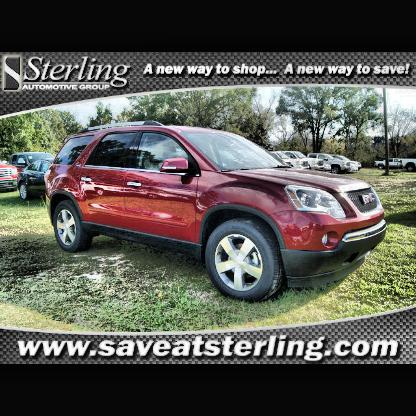GMC Acadia SUV 2012: (44, 119, 388, 308)
